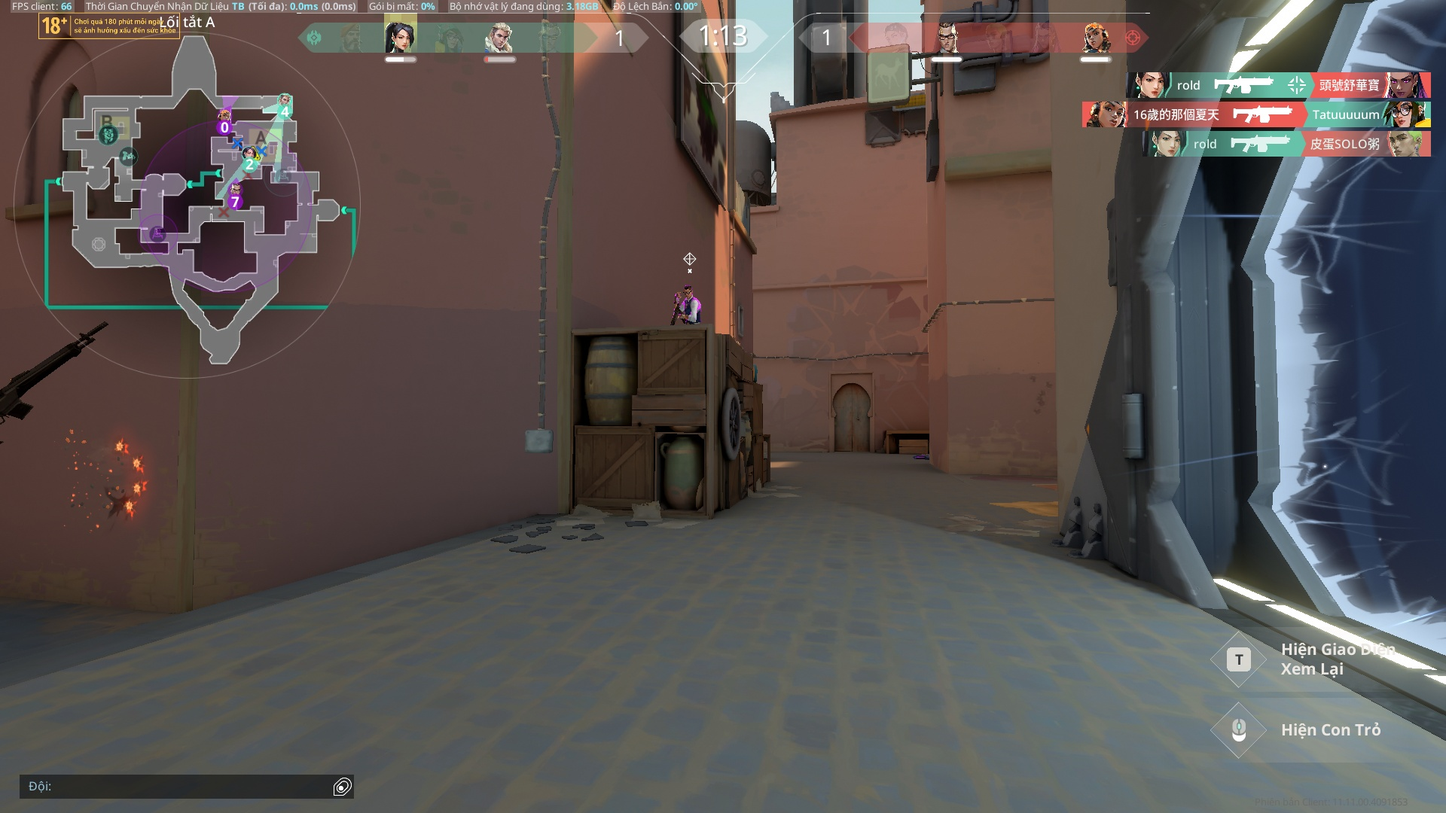body: (682, 295, 703, 320)
head: (682, 285, 692, 297)
